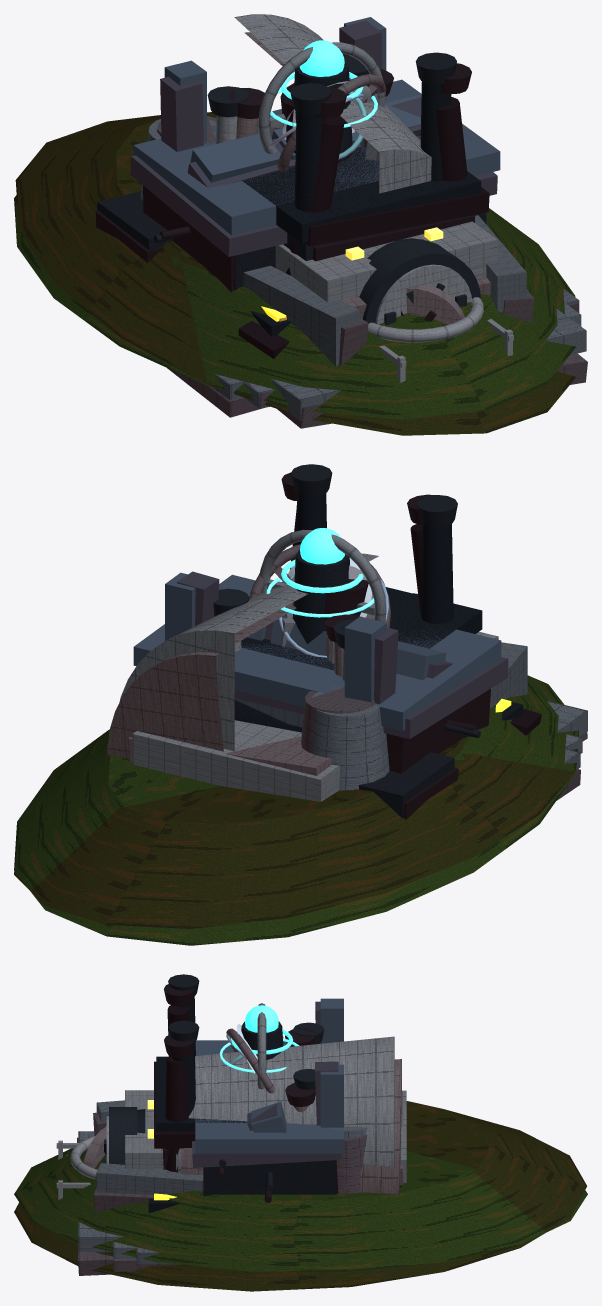
The model's file is base_structures.glb.
3 renders of one model, top to bottom at view 1: azimuth 30°, elevation 25°; view 2: azimuth 150°, elevation 25°; view 3: azimuth 270°, elevation 25°, orthographic. The views are drawn at different scales.
Visible parts, largest first — view 1: bunker_mound (×2), facility_war_factory_roof (×2), facility_powerplant_roof (×2), facility_powerplant, bunker_hull, bunker_front_block, bunker_retaining_wall_0 (×2), facility_war_factory, bunker_door_disc (×2), facility_war_factory_hangar (×2), bunker_entry_frame, bunker_foundation (×2) (+19 smaller); view 2: bunker_mound (×2), bunker_hull (×2), facility_war_factory_roof (×2), facility_powerplant, bunker_rear_buttress (×2), facility_war_factory, facility_powerplant_roof, facility_tech_lab_tower (×2), facility_war_factory_annex (×2), facility_war_factory_hangar, facility_radar_tower_frame (×2), facility_powerplant_cooler_0 (+10 smaller); view 3: bunker_mound (×2), bunker_hull (×2), facility_war_factory_roof (×2), facility_war_factory_hangar, bunker_retaining_wall_1 (×2), facility_war_factory, facility_powerplant, facility_powerplant_roof (×2), bunker_front_block, facility_powerplant_stack_1, bunker_foundation (×2), facility_radar_tower_frame (×2) (+11 smaller).
Part boxes in pixels (bbox=[...]): bunker_mound (×2): bbox=[14, 112, 576, 435]; facility_war_factory_roof (×2): bbox=[130, 79, 500, 256]; facility_powerplant_roof (×2): bbox=[242, 136, 489, 246]; facility_powerplant: bbox=[140, 52, 522, 336]; bunker_hull: bbox=[234, 14, 431, 193]; bunker_front_block: bbox=[275, 221, 497, 302]; bunker_retaining_wall_0 (×2): bbox=[243, 265, 368, 366]; facility_war_factory: bbox=[164, 17, 421, 182]; bunker_door_disc (×2): bbox=[375, 264, 471, 324]; facility_war_factory_hangar (×2): bbox=[143, 185, 486, 292]; bunker_entry_frame: bbox=[359, 240, 480, 323]; bunker_foundation (×2): bbox=[270, 308, 587, 428]; bunker_mound (×2): bbox=[14, 675, 578, 945]; bunker_hull (×2): bbox=[107, 553, 378, 758]; facility_war_factory_roof (×2): bbox=[133, 574, 508, 738]; facility_powerplant: bbox=[291, 464, 523, 790]; bunker_rear_buttress (×2): bbox=[128, 720, 340, 801]; facility_war_factory: bbox=[165, 572, 446, 702]; facility_powerplant_roof: bbox=[241, 581, 482, 670]; facility_tech_lab_tower (×2): bbox=[292, 549, 368, 643]; facility_war_factory_annex (×2): bbox=[358, 752, 458, 819]; facility_war_factory_hangar: bbox=[386, 688, 490, 773]; facility_radar_tower_frame (×2): bbox=[249, 529, 390, 627]; facility_powerplant_cooler_0: bbox=[301, 687, 374, 753]; bunker_mound (×2): bbox=[14, 1101, 587, 1291]; bunker_hull (×2): bbox=[176, 1036, 401, 1194]; facility_war_factory_roof (×2): bbox=[192, 1040, 343, 1167]; facility_war_factory_hangar: bbox=[203, 1160, 336, 1196]; bunker_retaining_wall_1 (×2): bbox=[93, 1163, 203, 1212]; facility_war_factory: bbox=[251, 998, 343, 1132]; facility_powerplant: bbox=[148, 974, 367, 1213]; facility_powerplant_roof (×2): bbox=[154, 1056, 246, 1148]; bunker_front_block: bbox=[125, 1090, 163, 1168]; facility_powerplant_stack_1: bbox=[165, 1056, 188, 1172]; bunker_foundation (×2): bbox=[77, 1131, 123, 1275]; facility_radar_tower_frame (×2): bbox=[226, 1003, 274, 1093].
Bounding box in the file's own units: 93.6 × 69.87 × 147.
187 materials, 134 textured.
